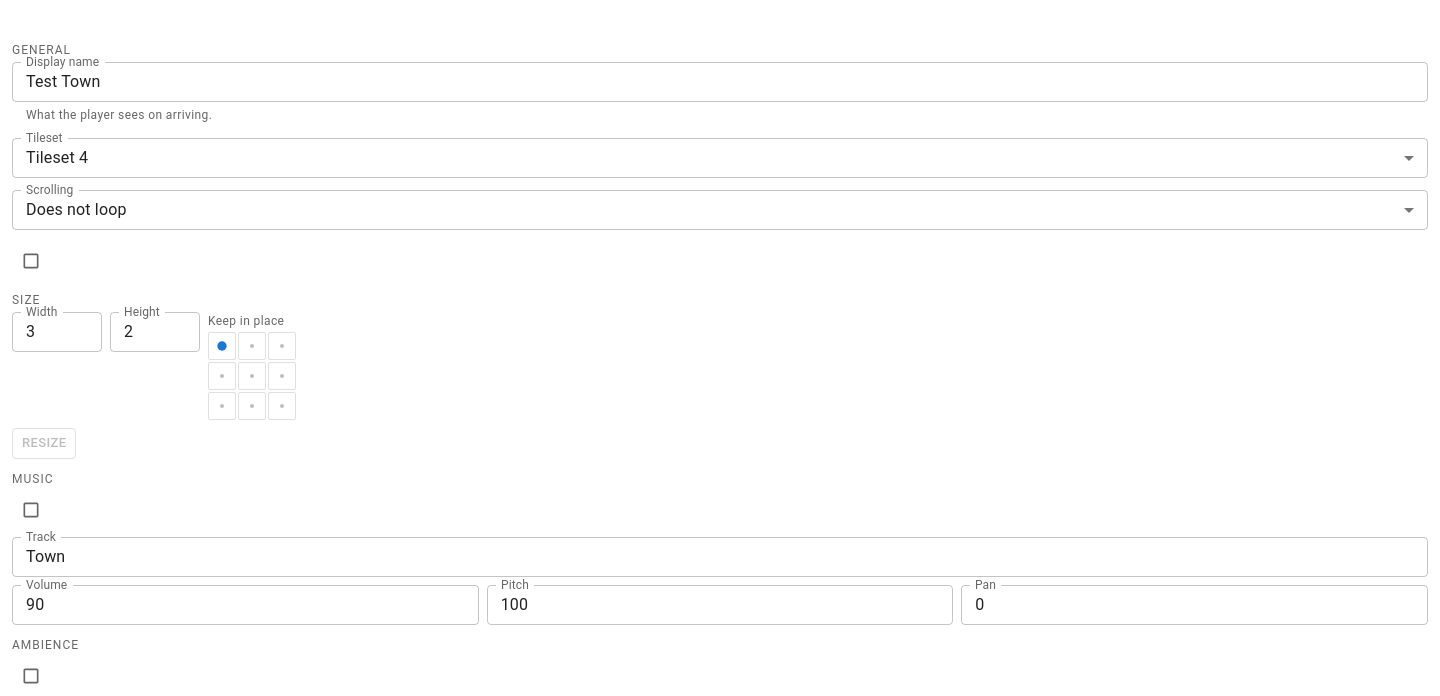
Scenario: MapPropertiesPanel › says when the transfers landing on the map could not be checked
Replace the text in the field labelled "Width" with "5": point(57, 332) [12,312,102,352]
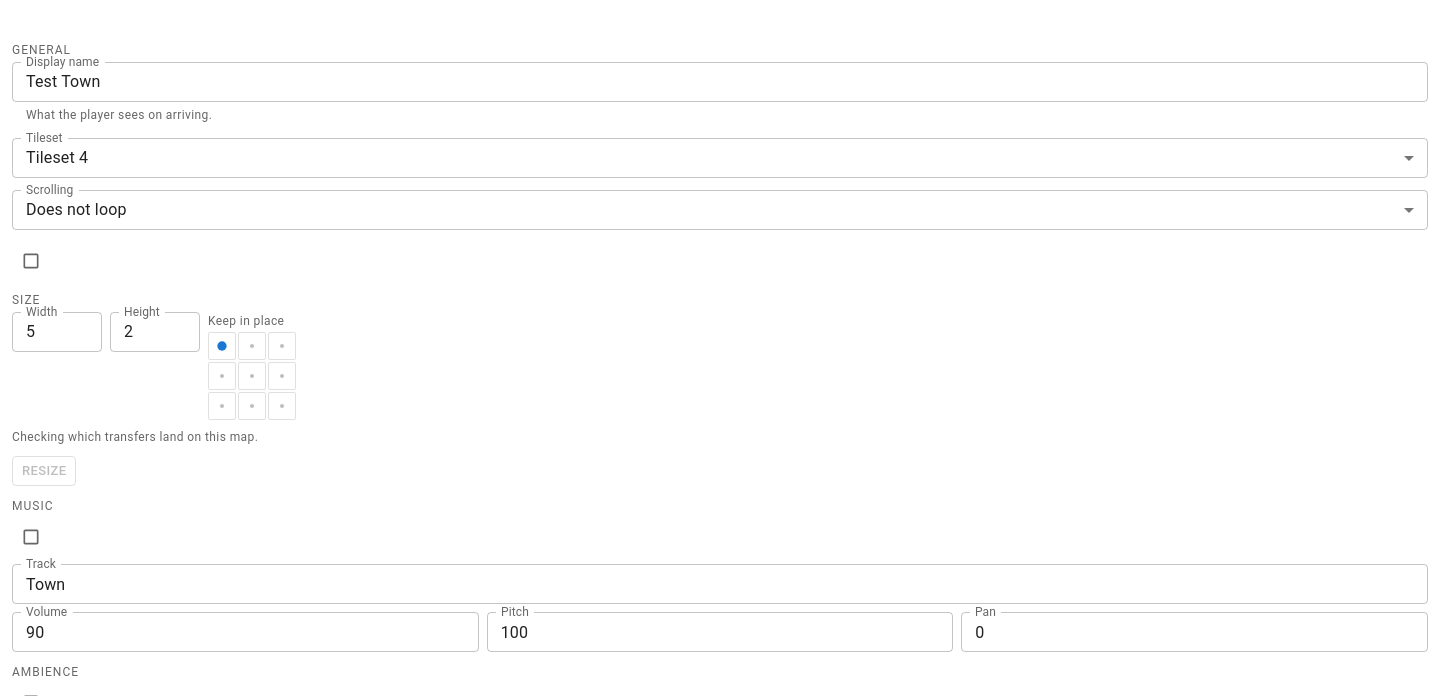
Click the radio button named "Right": point(282, 376) [268,362,296,390]
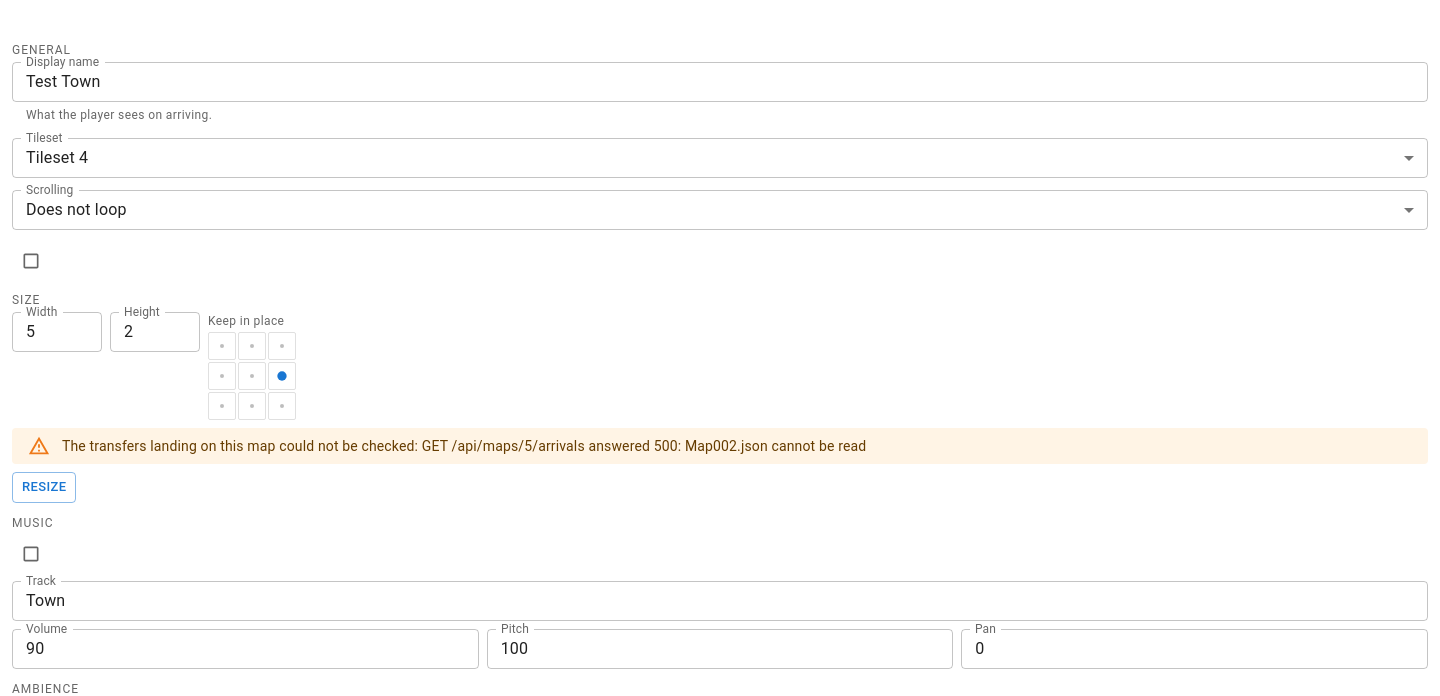
Now the text "The transfers landing on this map could not be checked: GET /api/maps/5/arrivals answered 500: Map002.json cannot be rea" is shown, box [62,438,866,454]
